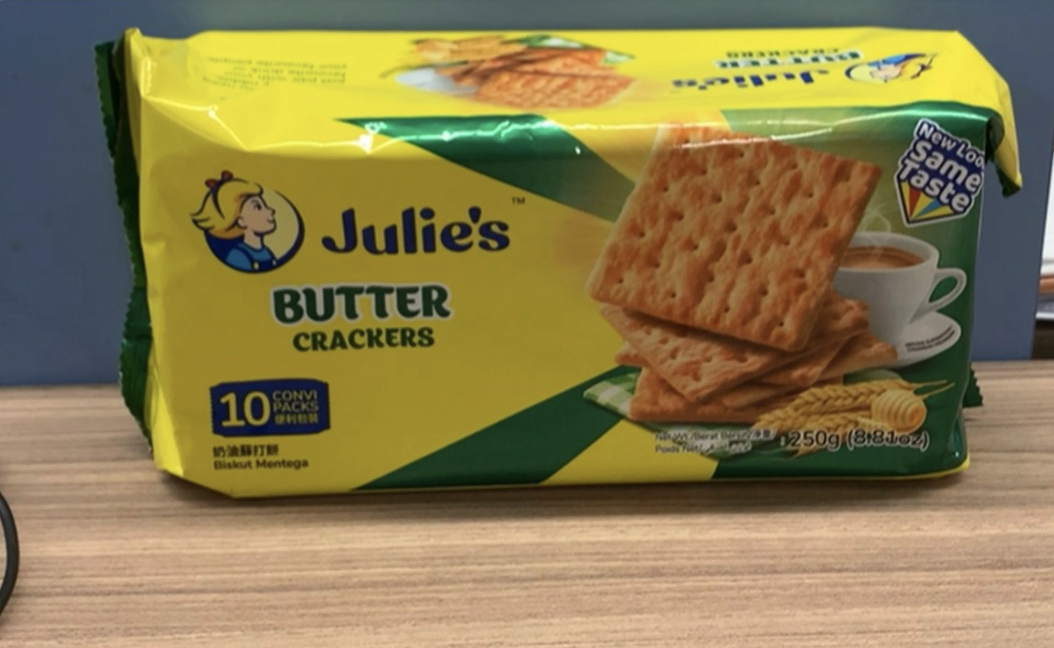crackers_200g-299g: (180, 121, 972, 462)
